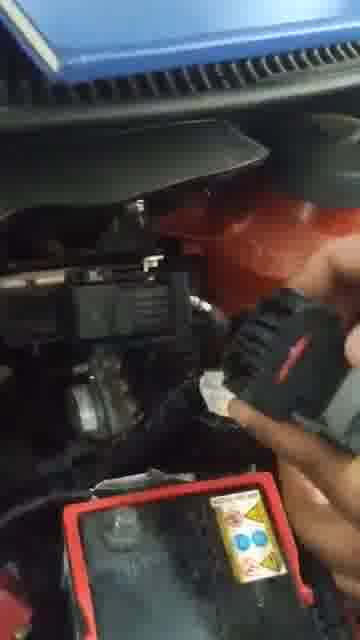connector: (223, 287, 342, 414)
